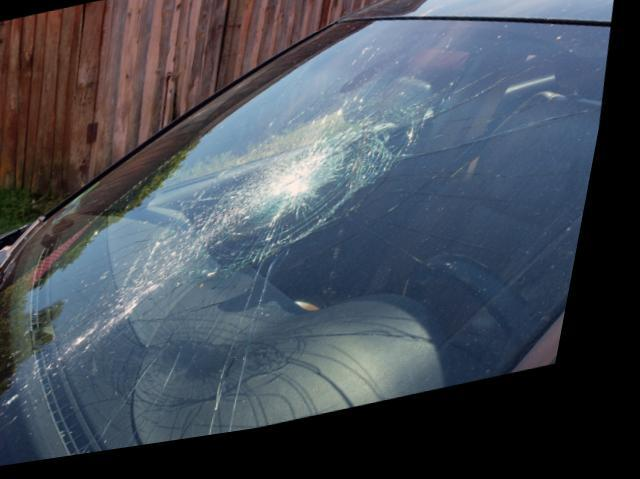glass shatter: (0, 31, 615, 471)
